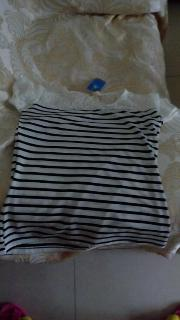short sleeve top: (0, 77, 179, 256)
